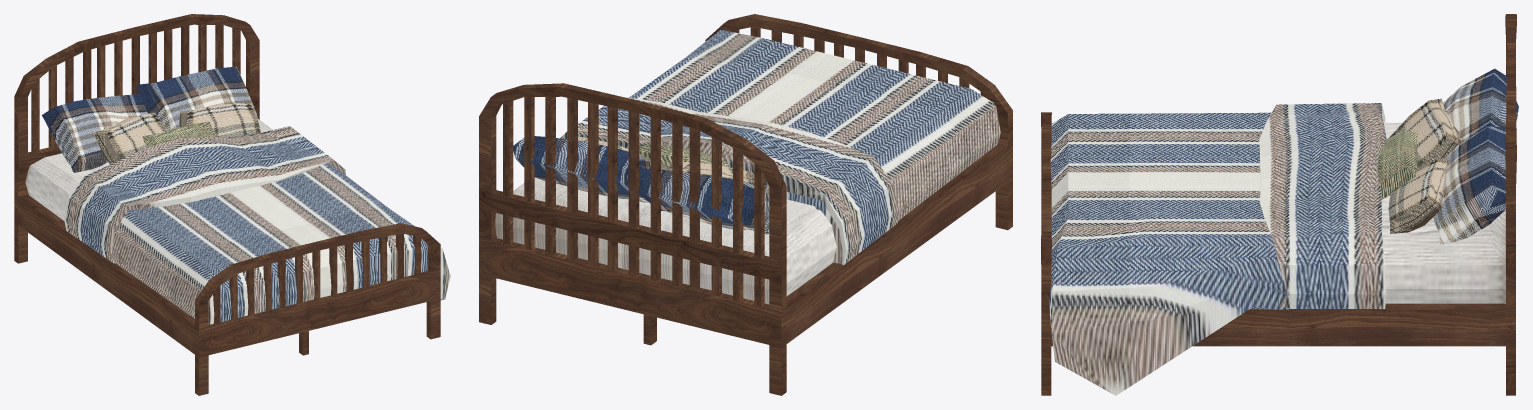
Rendered from low-poly_psx_style_double_bed.glb.
The picture shows the model from 3 angles, left to right: view 1: azimuth 30°, elevation 25°; view 2: azimuth 150°, elevation 25°; view 3: azimuth 270°, elevation 25°; orthographic projection. The views are drawn at different scales.
Visible parts, largest first — view 1: Blanket, Bedframe, Pillow Top_001, Pillow Top_002, Bedsheet, Pillow Center_002, Pillow Center_001, Pillow Small; view 2: Bedframe, Blanket, Bedsheet, Pillow Top_001, Pillow Top_002, Pillow Small, Pillow Center_002; view 3: Blanket, Bedframe, Bedsheet, Pillow Top_002, Pillow Top_001, Pillow Center_001, Pillow Center_002, Pillow Small.
Part boxes in pixels (box(x1,y1,x2,y2)): Blanket: box(64, 126, 450, 324); Bedframe: box(14, 14, 440, 395); Pillow Top_001: box(42, 94, 147, 172); Pillow Top_002: box(136, 66, 257, 130); Bedsheet: box(25, 119, 425, 242); Pillow Center_002: box(93, 112, 166, 164); Pillow Center_001: box(179, 103, 260, 136); Pillow Small: box(142, 121, 215, 147); Bedframe: box(479, 14, 1012, 395); Blanket: box(560, 30, 1000, 265); Bedsheet: box(495, 177, 836, 304); Pillow Top_001: box(638, 168, 769, 234); Pillow Top_002: box(513, 136, 650, 203); Pillow Small: box(639, 143, 729, 166); Pillow Center_002: box(664, 162, 766, 192); Blanket: box(1049, 103, 1386, 395); Bedframe: box(1041, 14, 1516, 395); Bedsheet: box(1051, 122, 1505, 303); Pillow Top_002: box(1433, 126, 1505, 244); Pillow Top_001: box(1443, 68, 1518, 142); Pillow Center_001: box(1388, 158, 1449, 233); Pillow Center_002: box(1389, 98, 1460, 168); Pillow Small: box(1378, 130, 1417, 199).
Size of the model in its own units: 2.06 by 1.54 by 2.54.
Materials: 7 (7 with a texture image).
